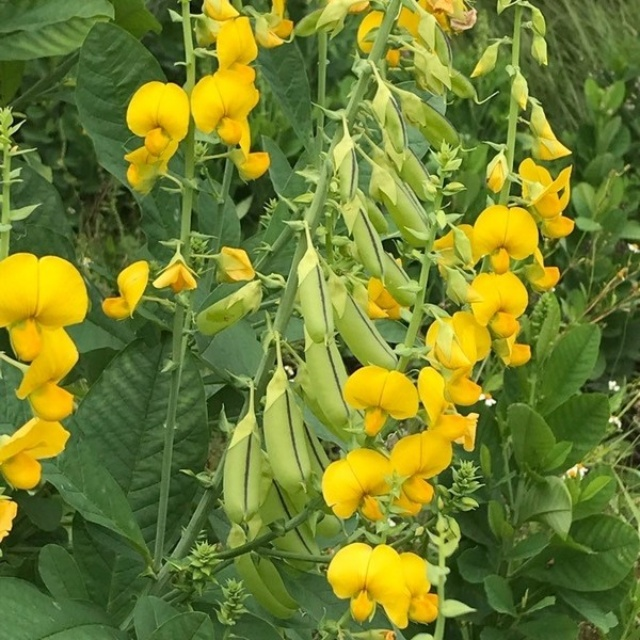obstacle: (252, 68, 517, 614), (108, 25, 282, 363), (469, 301, 610, 635), (0, 225, 92, 542)
